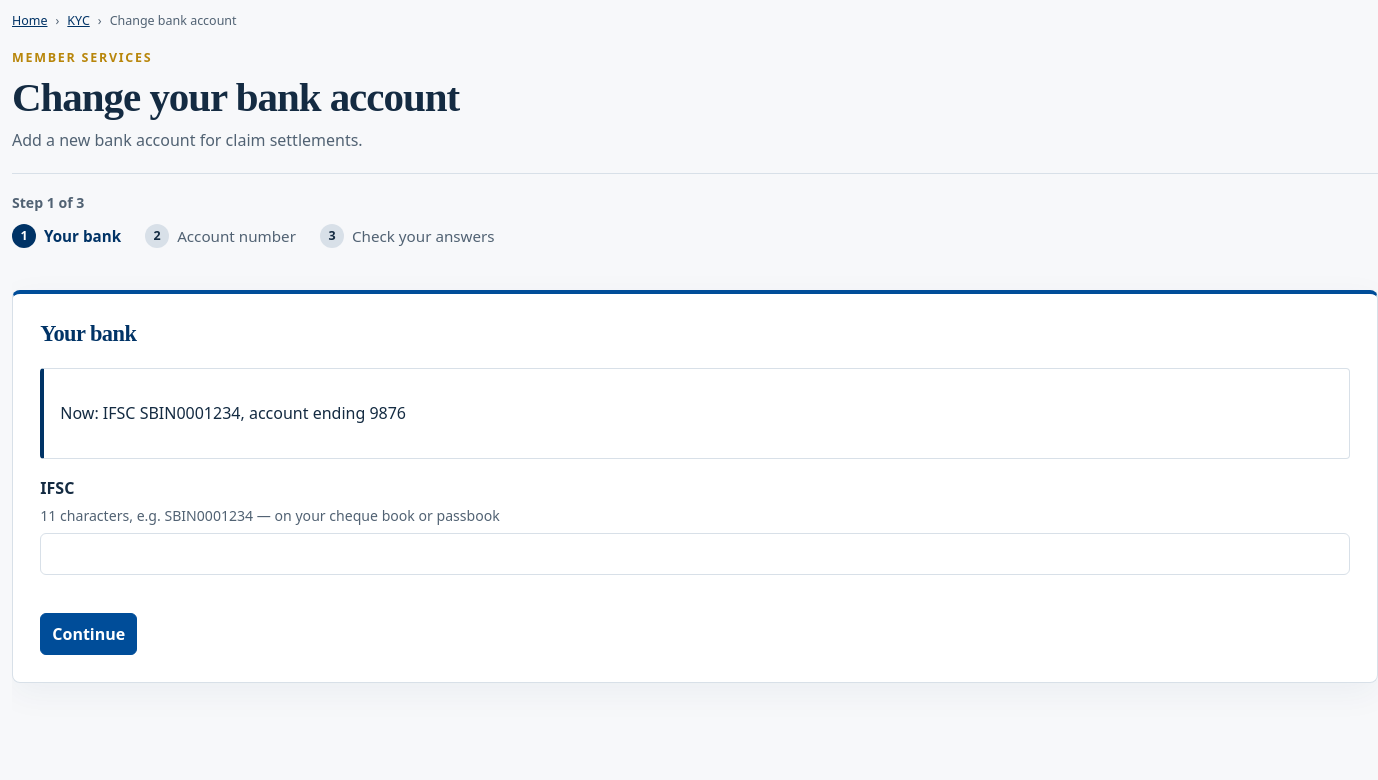
Test: P2.28b BankJourneyPage › shows only 'ending 4321' on Check your answers and hides full account number
Type "SBIN0001234" into the field labelled "IFSC" at (695, 554), box x1=40 y1=533 x2=1350 y2=575
Click the button "Continue" at (89, 634), box x1=40 y1=613 x2=137 y2=655
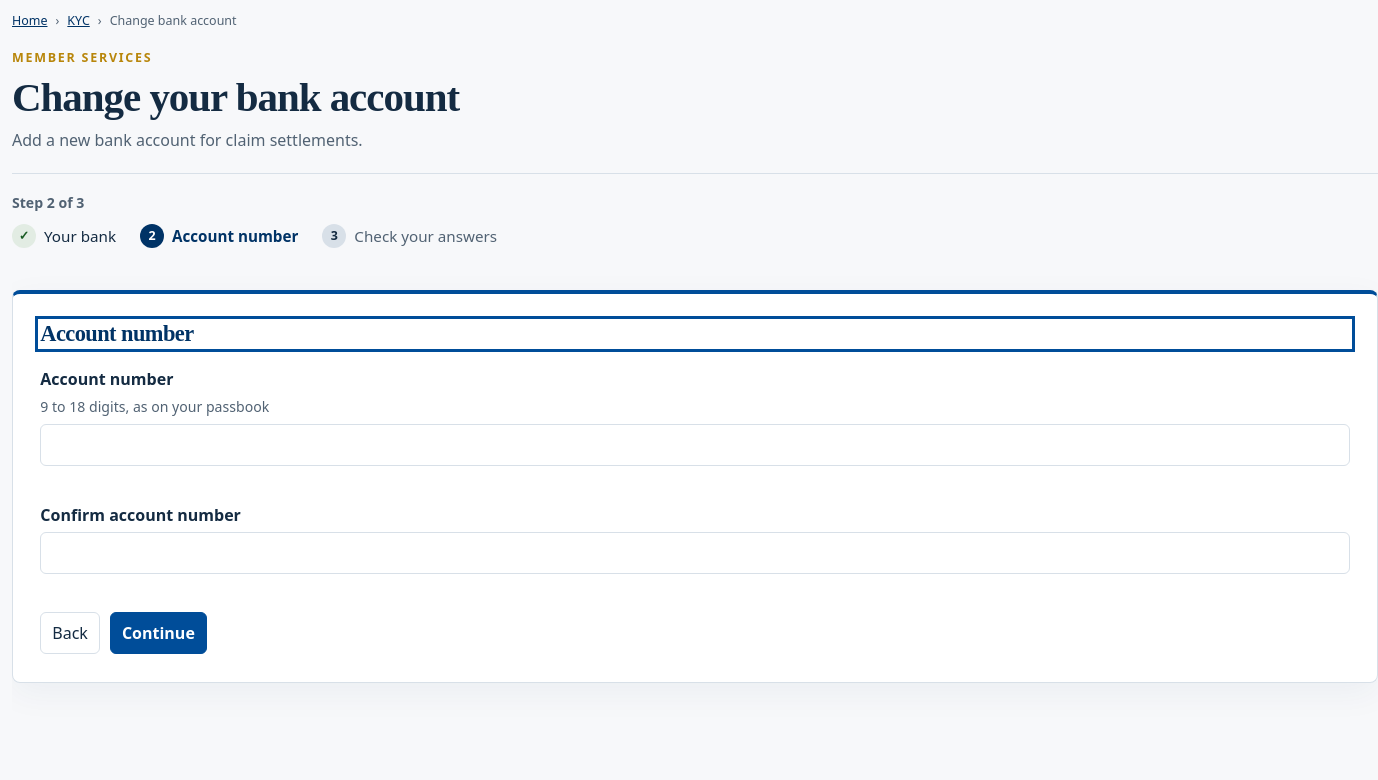
Type "123456784321" into the field labelled "Account number" at (695, 445), box x1=40 y1=424 x2=1350 y2=466
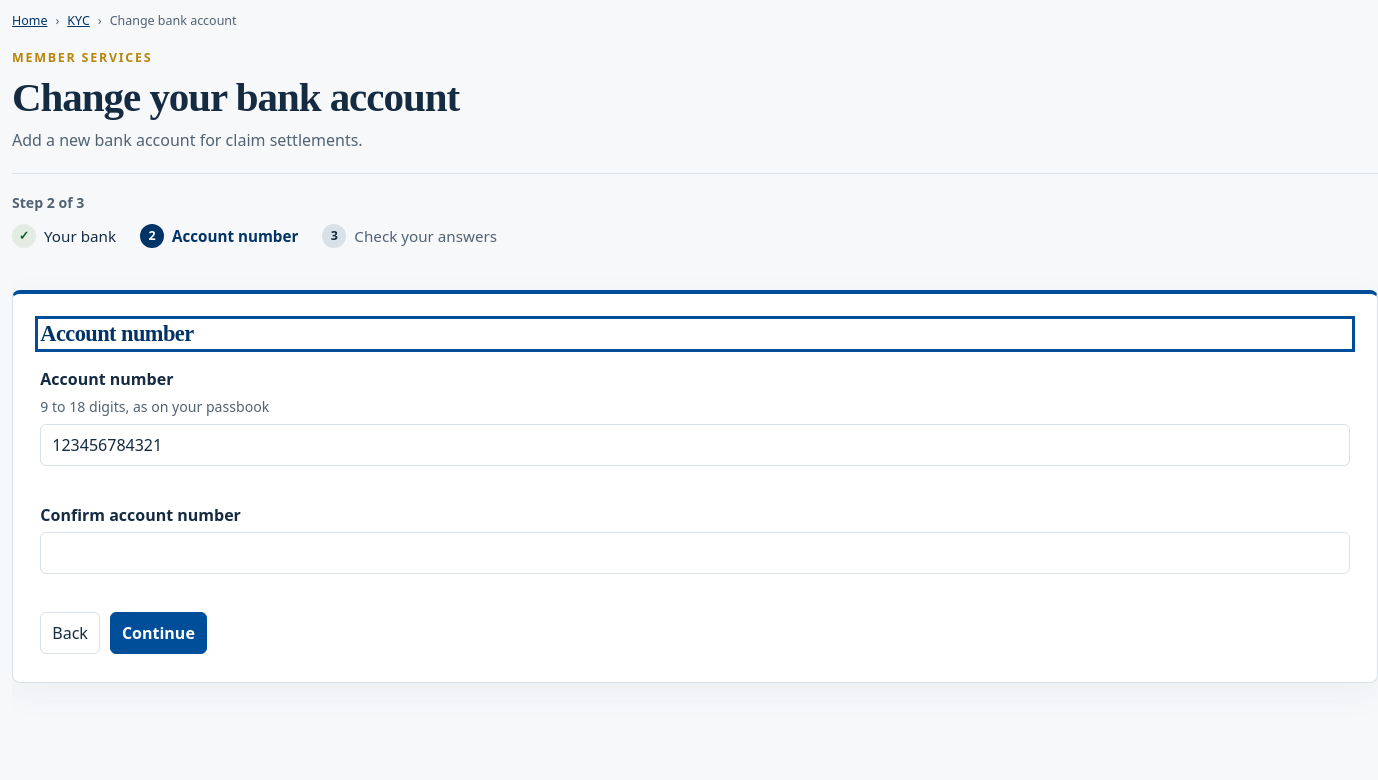
Type "123456784321" into the field labelled "Confirm account number" at (695, 553), box x1=40 y1=532 x2=1350 y2=574
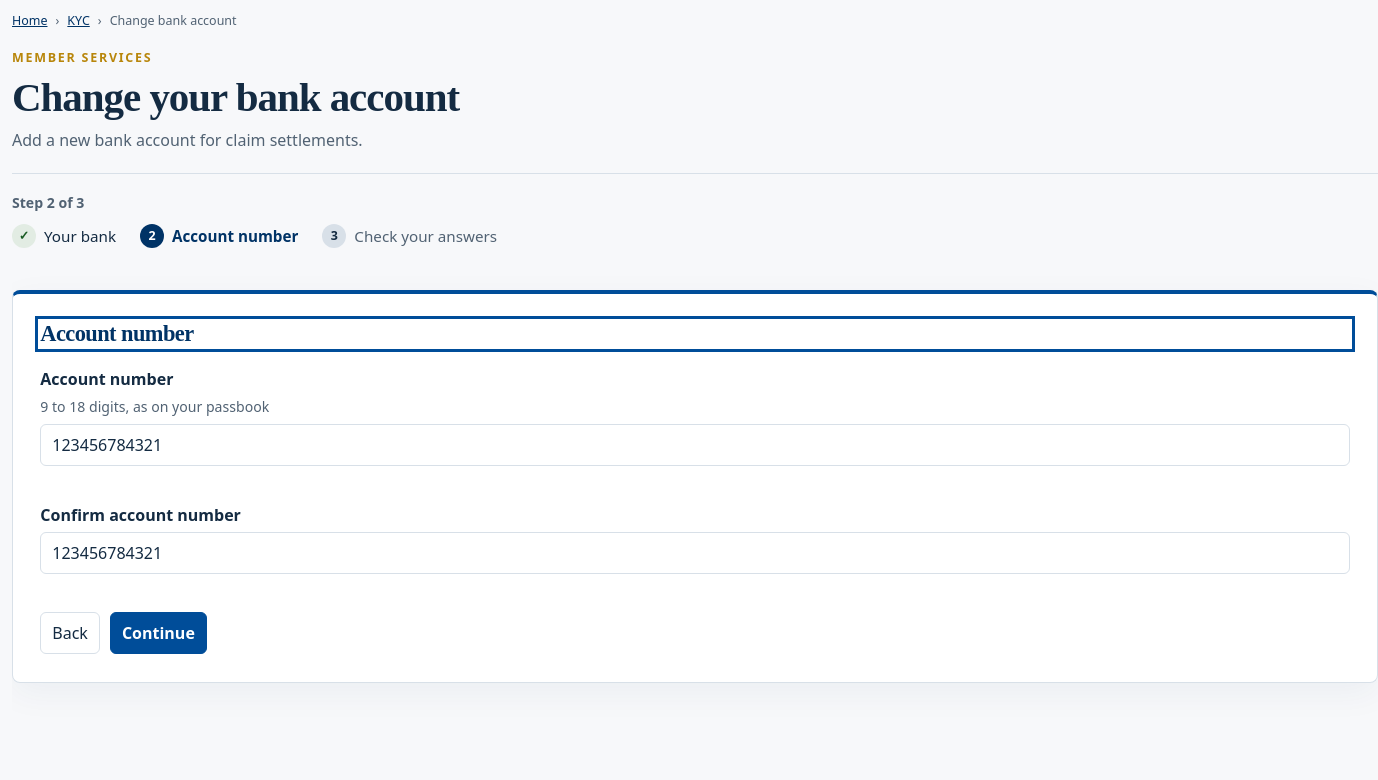
Click the button "Continue" at (158, 633), box x1=110 y1=612 x2=207 y2=654
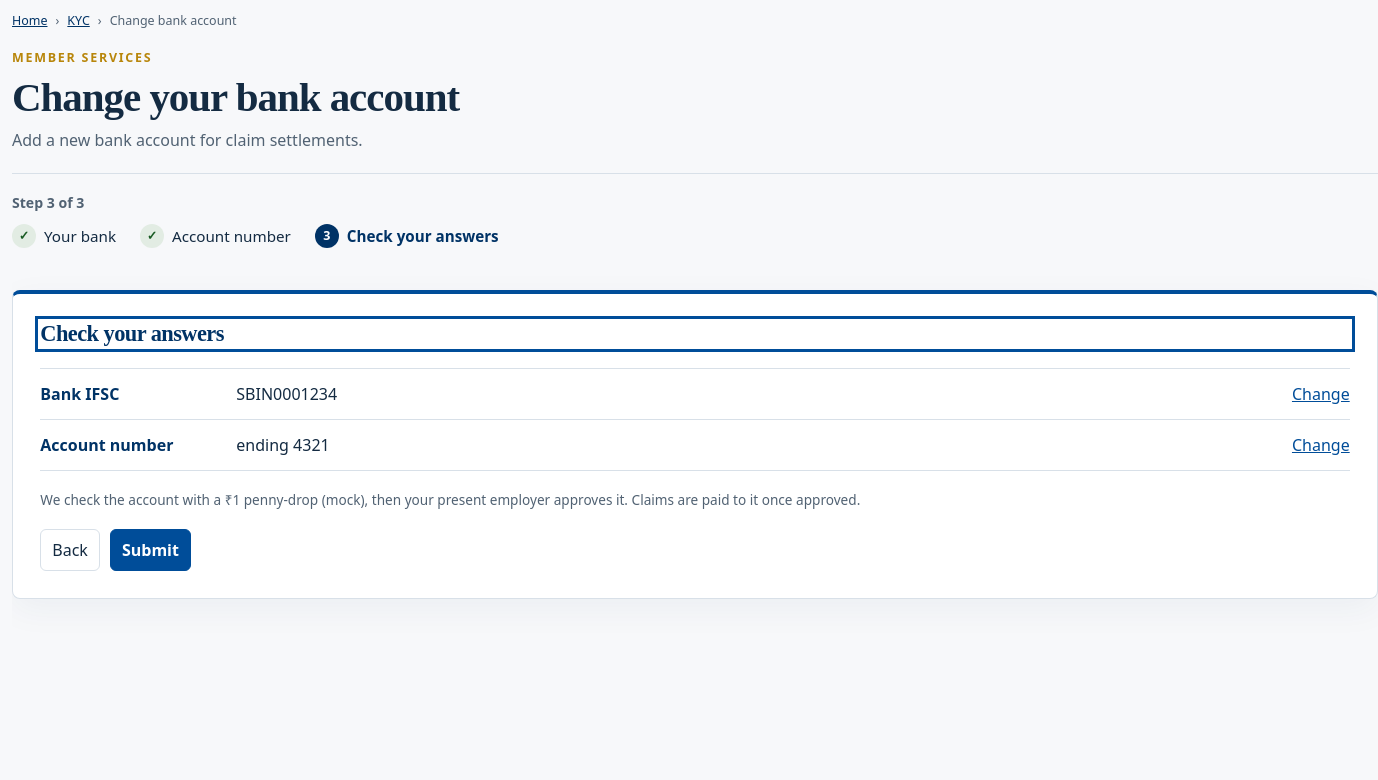
Result: the heading "Check your answers" is shown at x1=40 y1=321 x2=224 y2=346
Result: the text "SBIN0001234" is shown at x1=236 y1=384 x2=337 y2=406
Result: the text "ending 4321" is shown at x1=236 y1=434 x2=330 y2=456
# Clicking Change for Account number goes to Step 2
Click the button "Change" in the row of "ending 4321" at (1321, 446), box x1=1292 y1=434 x2=1350 y2=456
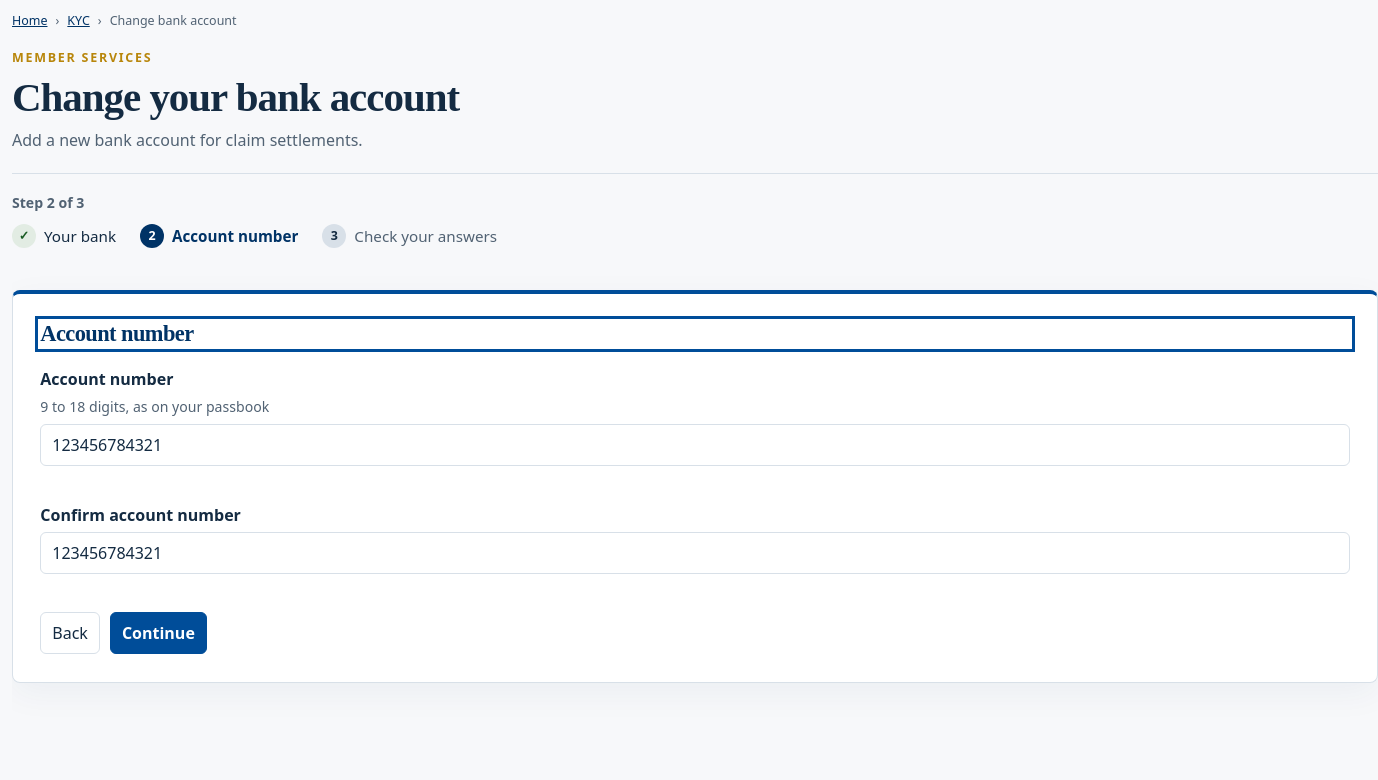
Result: the heading "Account number" is shown at x1=40 y1=321 x2=194 y2=346
# Clicking Continue goes back to Step 3
Click the button "Continue" at (158, 633), box x1=110 y1=612 x2=207 y2=654
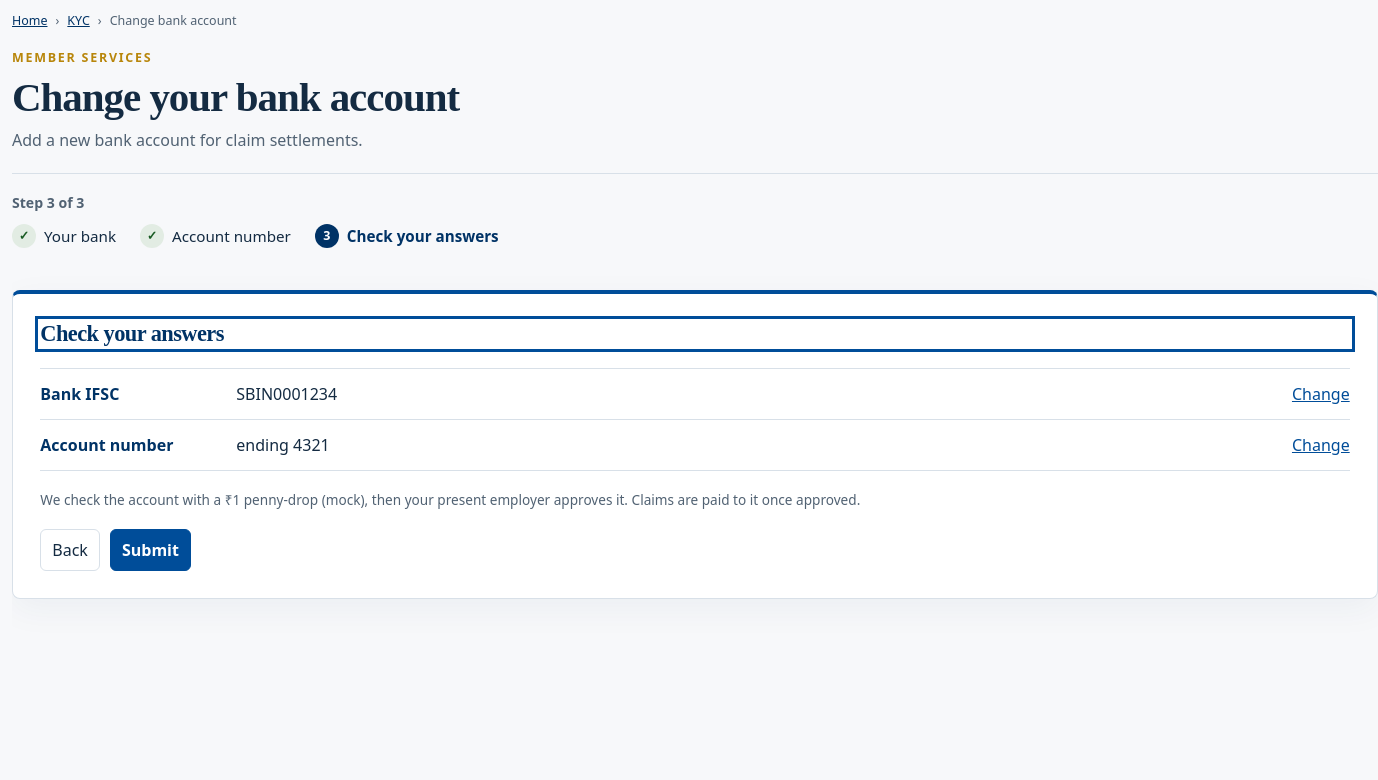
Result: the heading "Check your answers" is shown at x1=40 y1=321 x2=224 y2=346
